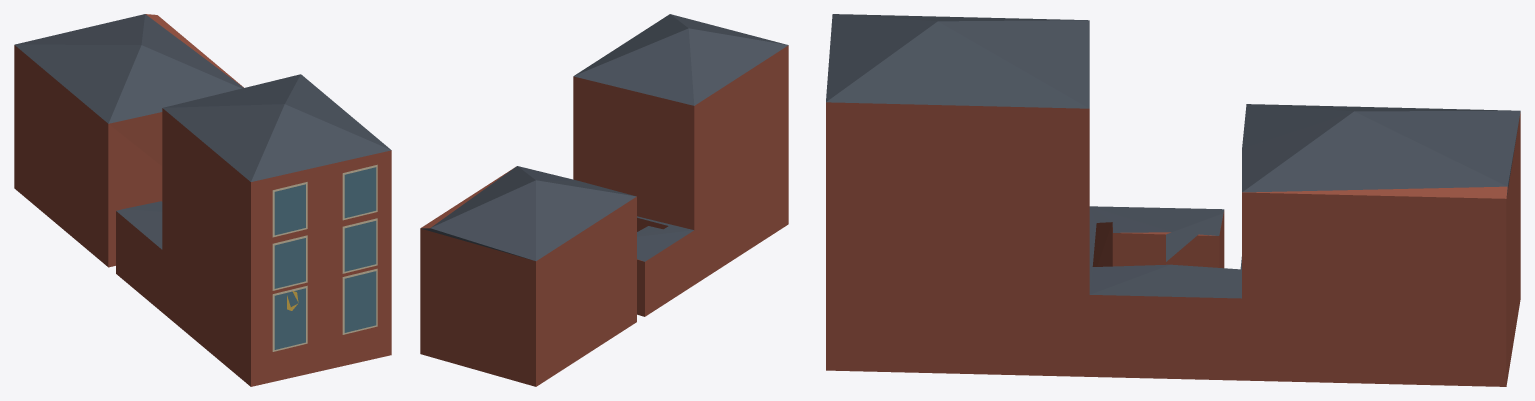
The model's file is amsterdam-pipe-museum.lod2.glb.
The picture shows the model from 3 angles, left to right: view 1: azimuth 30°, elevation 25°; view 2: azimuth 150°, elevation 25°; view 3: azimuth 270°, elevation 25°; orthographic projection. The views are drawn at different scales.
Parts seen in each view (by area): view 1: lod2; view 2: lod2; view 3: lod2.
Boxes of the visible parts, bbox=[...] form: lod2: bbox=[14, 14, 391, 386]; lod2: bbox=[420, 14, 788, 386]; lod2: bbox=[826, 14, 1520, 386].
Size of the model in its own units: 11.22 by 15.4 by 31.85.
